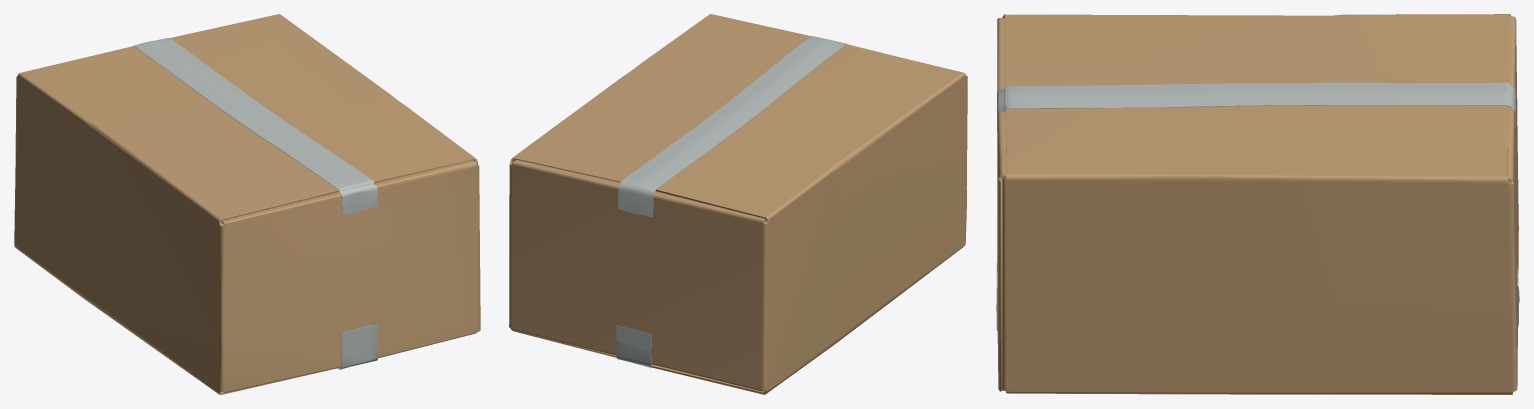
The model's file is box_printer_white_b07.glb.
3 renders of one model, left to right at view 1: azimuth 30°, elevation 25°; view 2: azimuth 150°, elevation 25°; view 3: azimuth 270°, elevation 25°, orthographic. The views are drawn at different scales.
Size of the model in its own units: 0.2256 by 0.1485 by 0.308.
